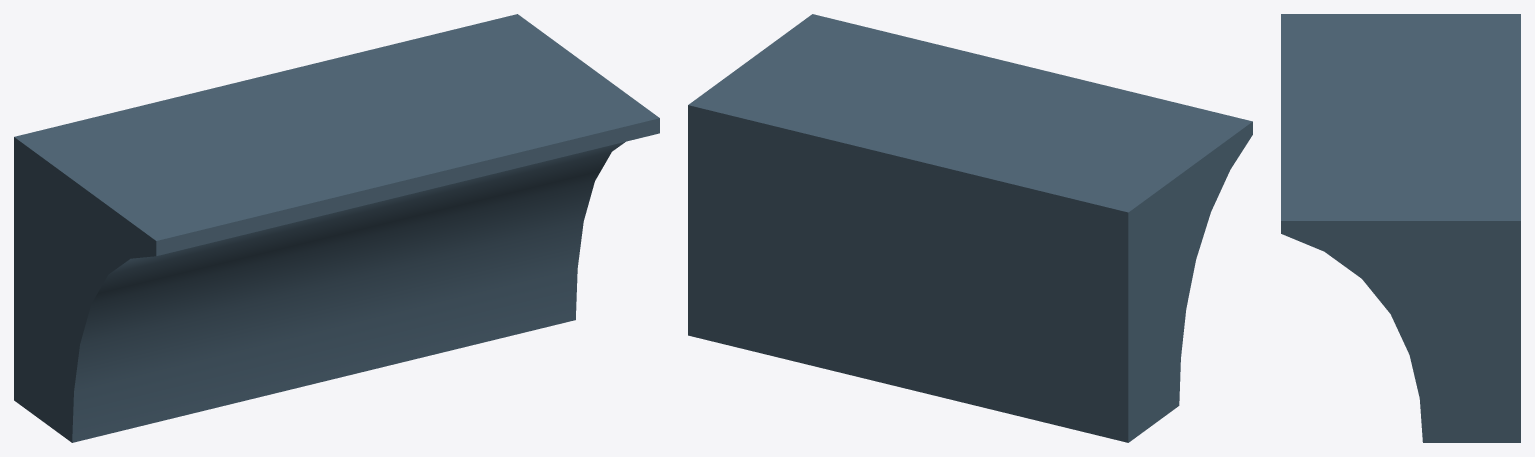
The model's file is W1_Wall_1m_TopCurved.fbx.
3 views of the same model, side by side, from view 1: azimuth 30°, elevation 25°; view 2: azimuth 150°, elevation 25°; view 3: azimuth 270°, elevation 25° (orthographic). The views are drawn at different scales.
Parts seen in each view (by area): view 1: W1_Wall_1m_TopCurved.001; view 2: W1_Wall_1m_TopCurved.001; view 3: W1_Wall_1m_TopCurved.001.
Boxes of the visible parts, x1,y1,x2,y2 form: W1_Wall_1m_TopCurved.001: (14,14,659,442); W1_Wall_1m_TopCurved.001: (688,14,1252,442); W1_Wall_1m_TopCurved.001: (1281,14,1520,442).
Size of the model in its own units: 1 by 0.5 by 0.4894.
